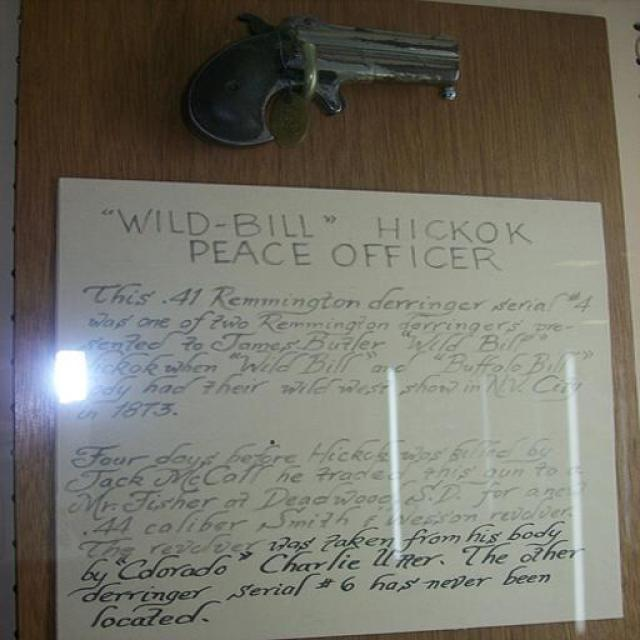pistol: (180, 11, 460, 150)
